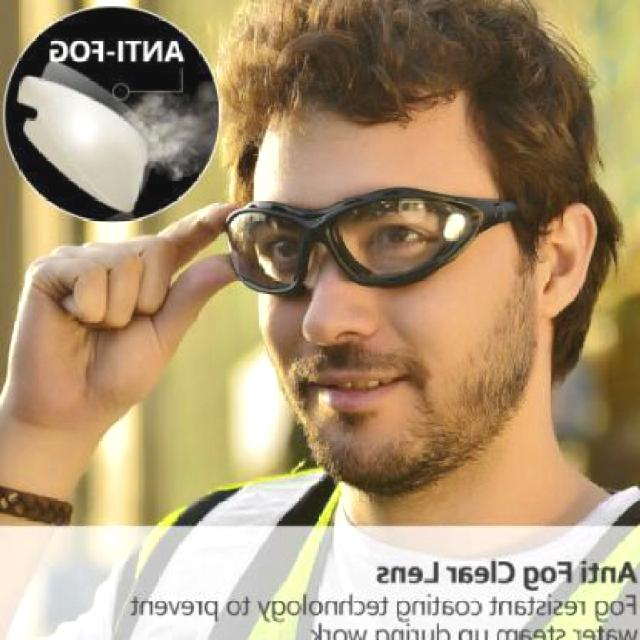face_nomask: (231, 203, 466, 446)
glasses: (224, 184, 528, 302)
hand_noglove: (0, 196, 248, 447)
head_nohelmet: (244, 0, 571, 172)
